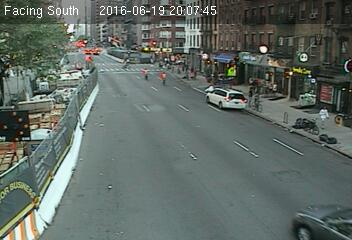neg: (142, 29, 151, 41)
pos: (315, 103, 334, 129)
